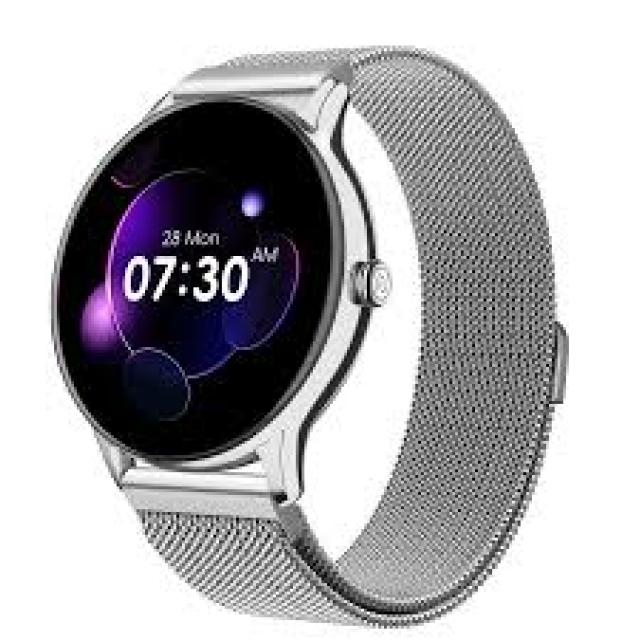objects: (51, 48, 566, 629)
